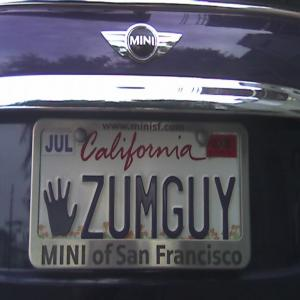Vehicle-registration-plate: (30, 119, 251, 274)
